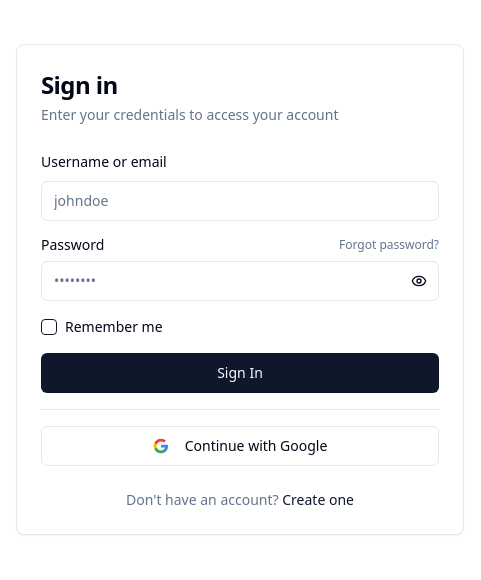
Test: LoginPage › shows validation error when submitting empty form
The image size is (481, 580).
Click the button "Sign In" at (240, 372), box [41, 352, 439, 392]
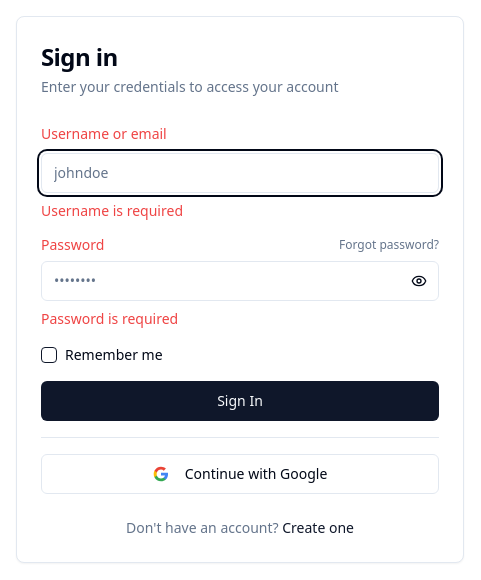
Result: the text "Username is required" is shown at [41, 200, 183, 220]
